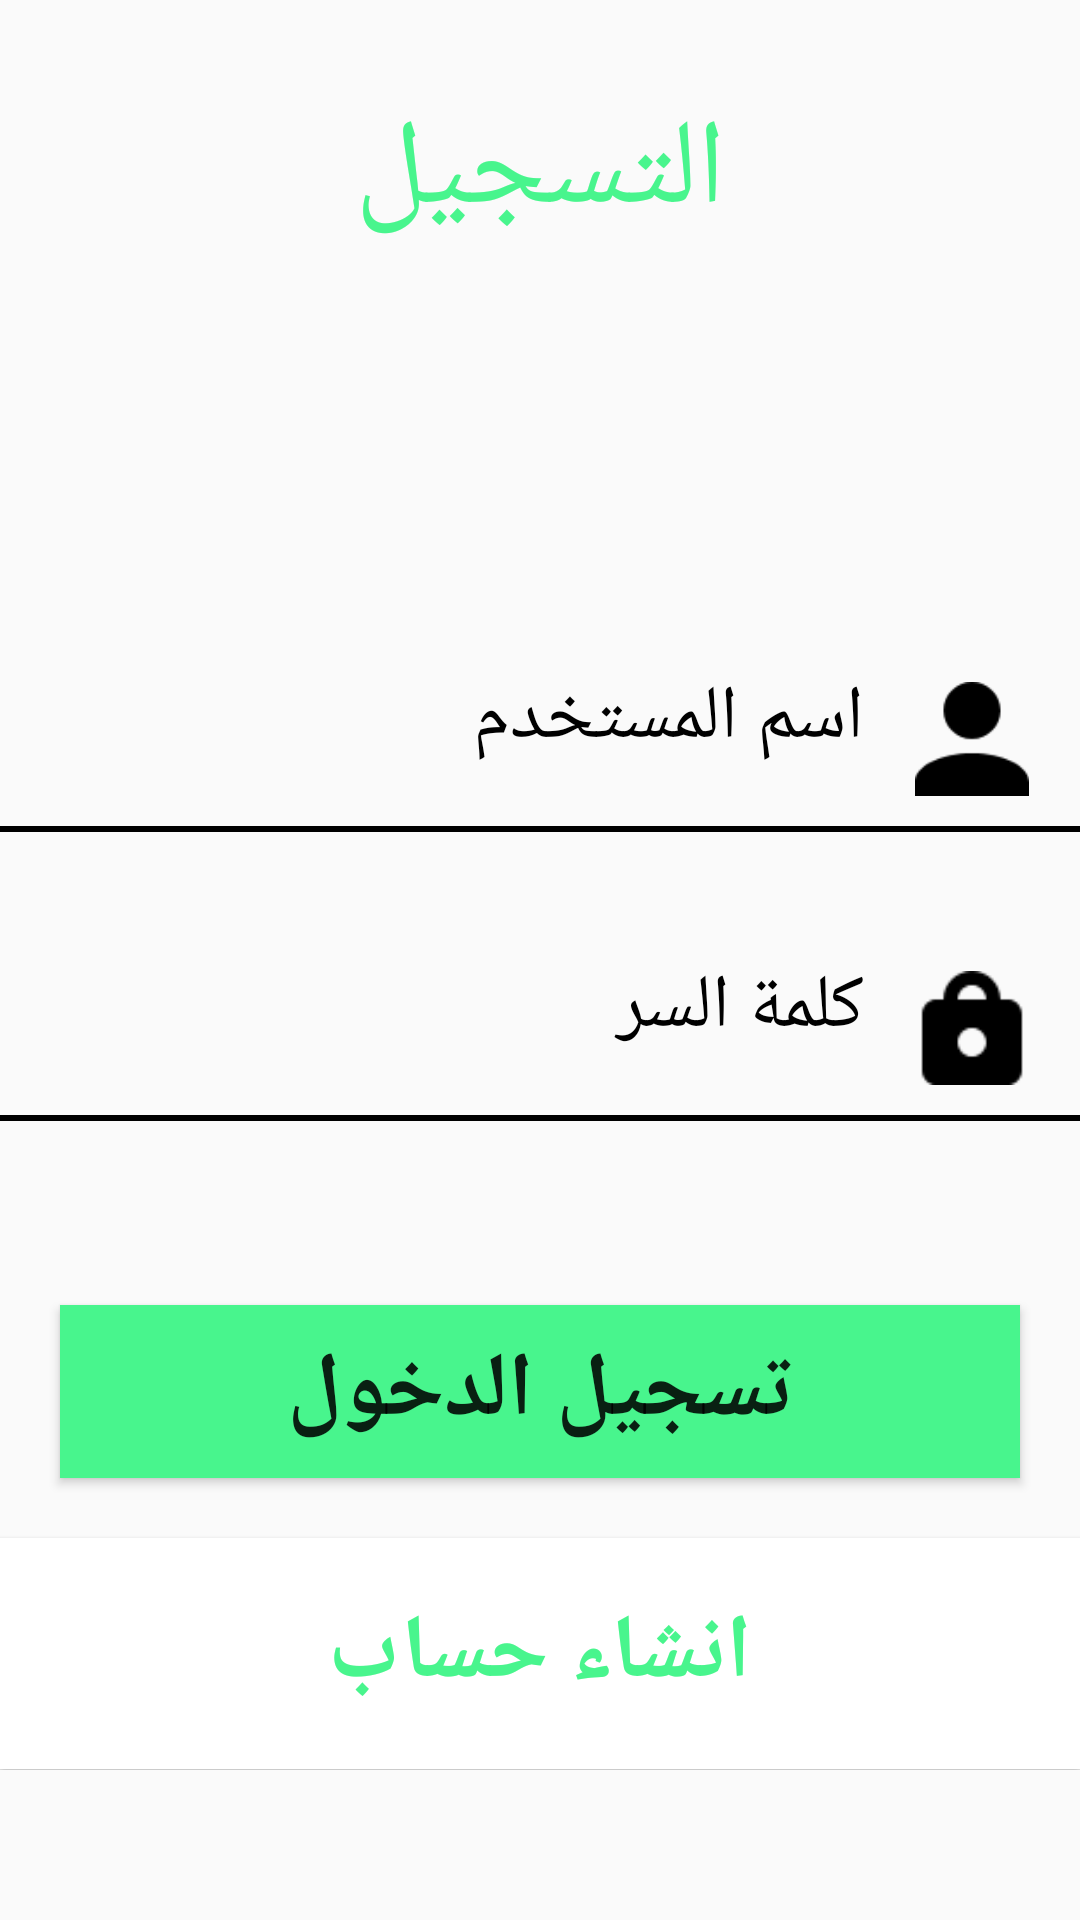

Screen size 1080px x 1920px. Icon name, then its box in pixels as [x1, y1, x2, y2]:
password pic: [921, 971, 1023, 1085]
username pic: [915, 682, 1029, 796]
